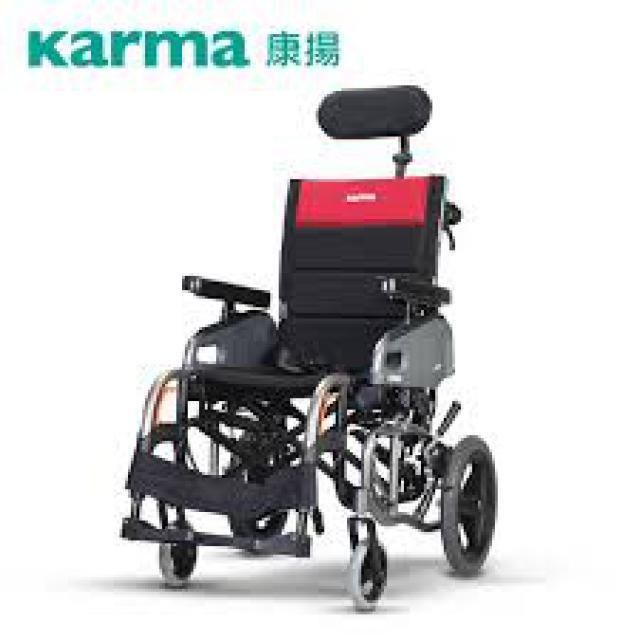wheelchairs: (120, 85, 498, 610)
